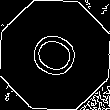O_SE: (23, 25, 87, 85)
